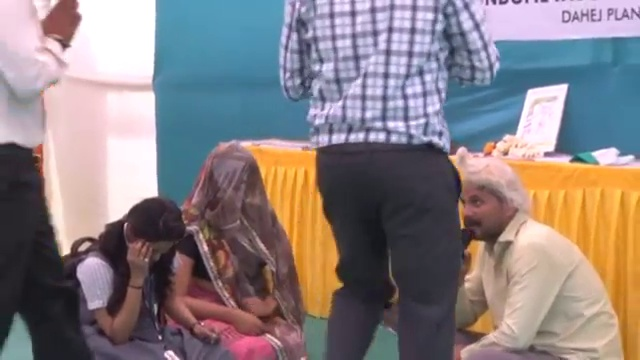helmet_off: (453, 157, 527, 250), (112, 200, 186, 260), (198, 145, 259, 215)
person: (280, 0, 502, 358), (446, 155, 627, 359), (0, 0, 89, 359), (159, 140, 302, 357), (64, 191, 195, 360)
